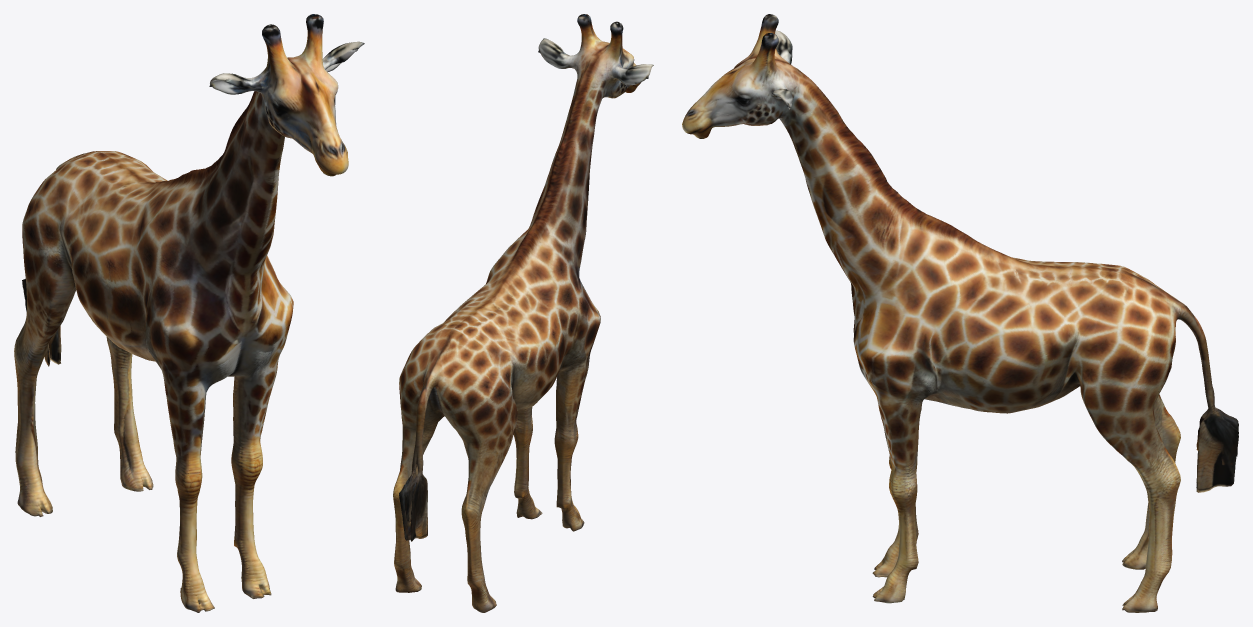
The model's file is jirafa.fbx.
3 views of the same model, side by side, from view 1: azimuth 30°, elevation 25°; view 2: azimuth 150°, elevation 25°; view 3: azimuth 270°, elevation 25° (orthographic). The views are drawn at different scales.
Parts seen in each view (by area): view 1: Mesh1_Mesh1.041; view 2: Mesh1_Mesh1.041; view 3: Mesh1_Mesh1.041.
Boxes of the visible parts, box(x1,y1,x2,y2) form: Mesh1_Mesh1.041: box(14, 14, 364, 612); Mesh1_Mesh1.041: box(393, 14, 653, 612); Mesh1_Mesh1.041: box(682, 14, 1238, 612).
Size of the model in its own units: 24.92 by 99.92 by 89.72.
